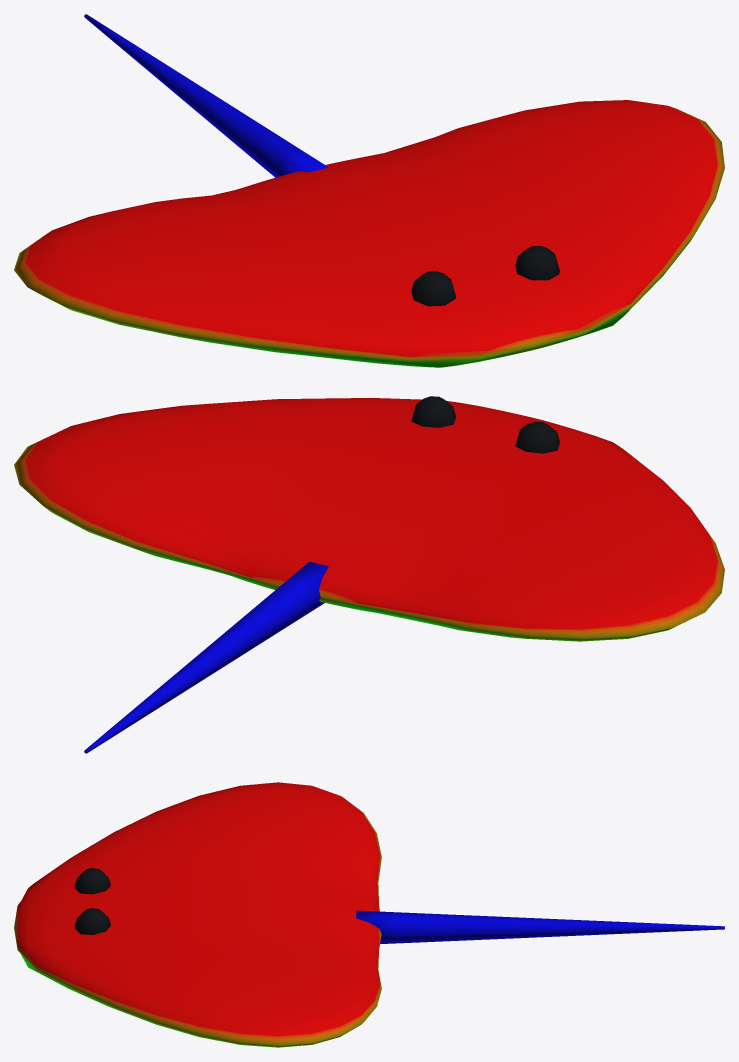
File: fish_ray.glb
3 renders of one model, top to bottom at view 1: azimuth 30°, elevation 25°; view 2: azimuth 150°, elevation 25°; view 3: azimuth 270°, elevation 25°, orthographic. The views are drawn at different scales.
Parts seen in each view (by area): view 1: Body, Eye; view 2: Body, Eye; view 3: Body, Eye.
Boxes of the visible parts, x1,y1,x2,y2 form: Body: (14, 14, 724, 367); Eye: (411, 245, 559, 306); Body: (14, 398, 724, 753); Eye: (411, 396, 559, 453); Body: (14, 782, 724, 1047); Eye: (74, 868, 110, 934).
Size of the model in its own units: 1.17 by 0.135 by 1.35.
